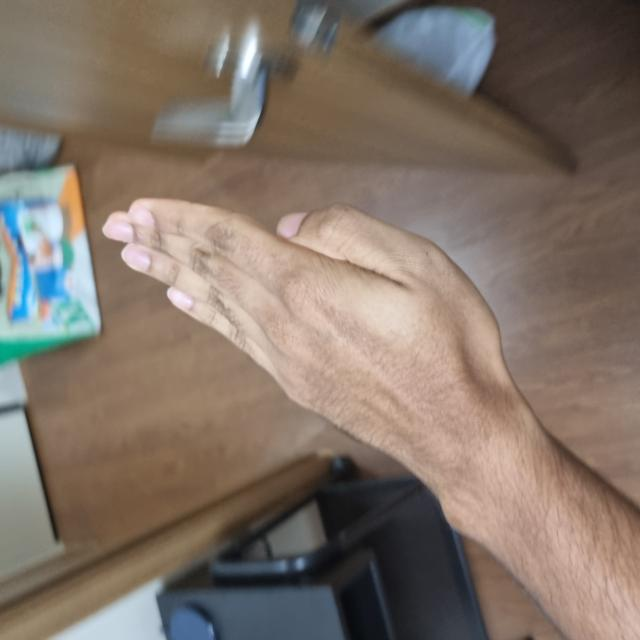Paper: (168, 253, 433, 509)
